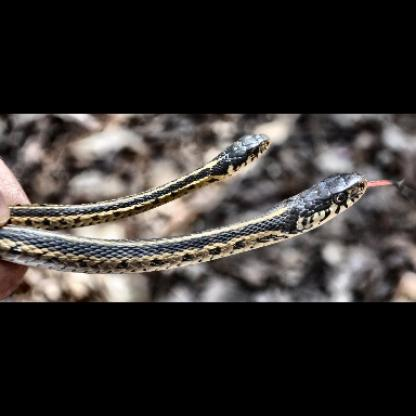Snake: (0, 171, 376, 274), (5, 131, 283, 220)
